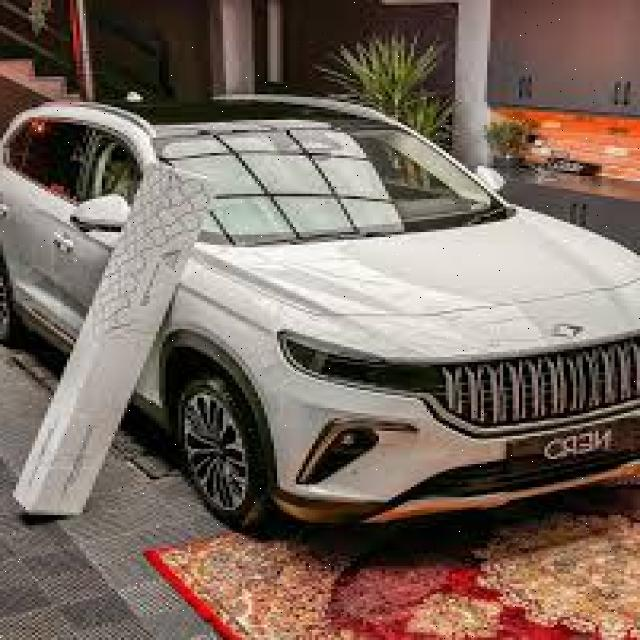car: (27, 53, 627, 571), (118, 84, 498, 350), (70, 83, 296, 186)
